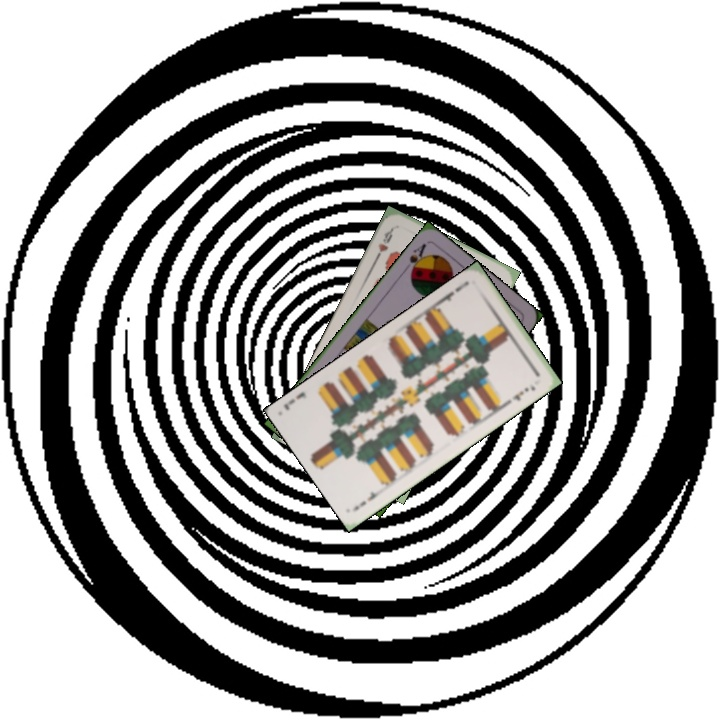E7: (436, 277, 471, 305), (351, 486, 387, 513)
H9: (371, 224, 396, 262)
SA: (405, 239, 430, 278)
